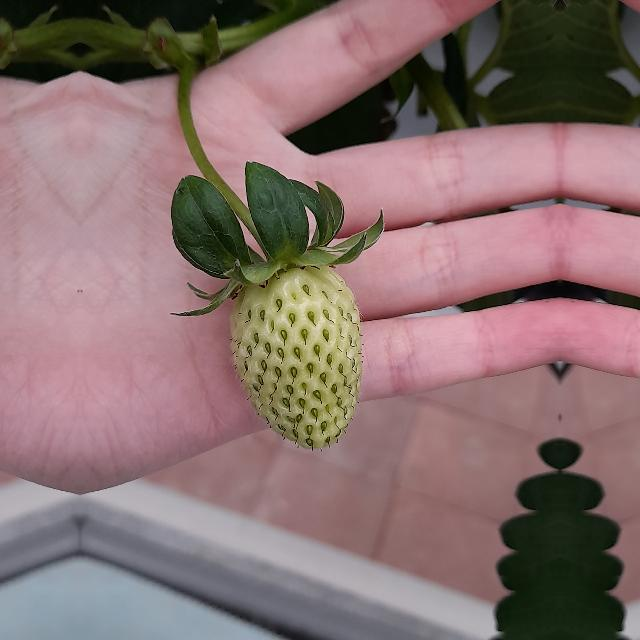Health_25: (230, 265, 362, 449)
